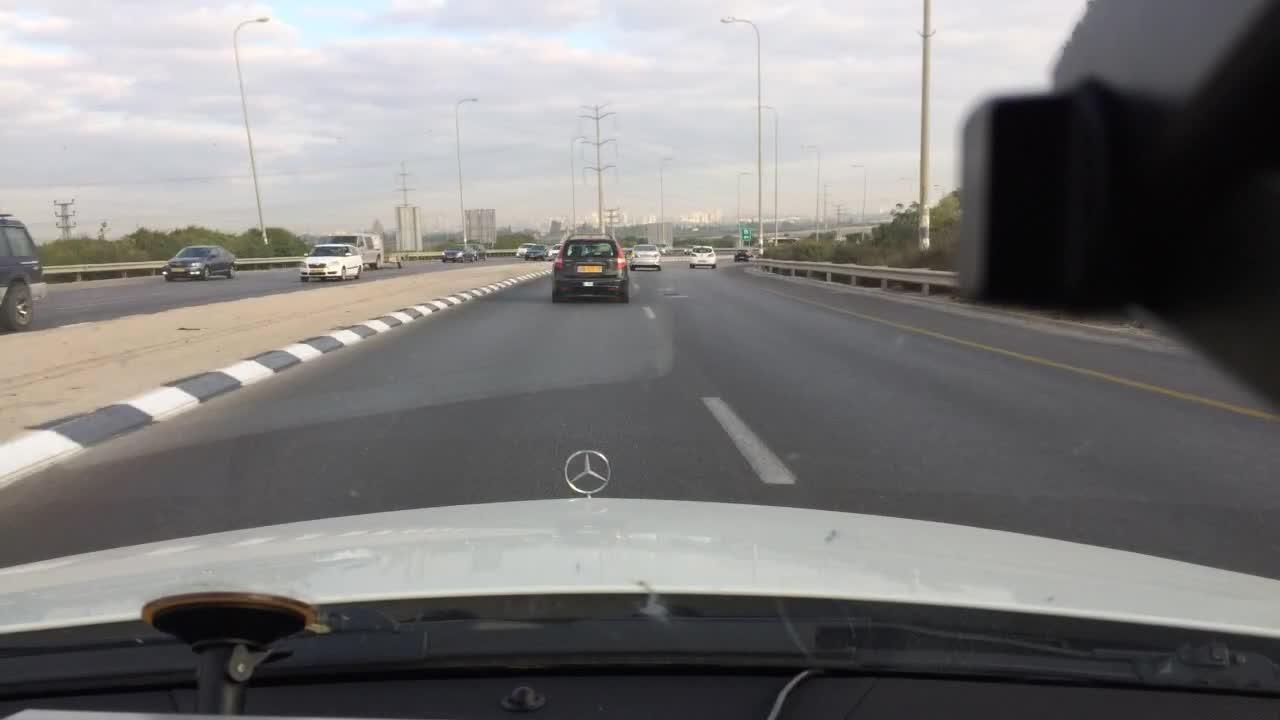Mercedes: (547, 440, 633, 516)
